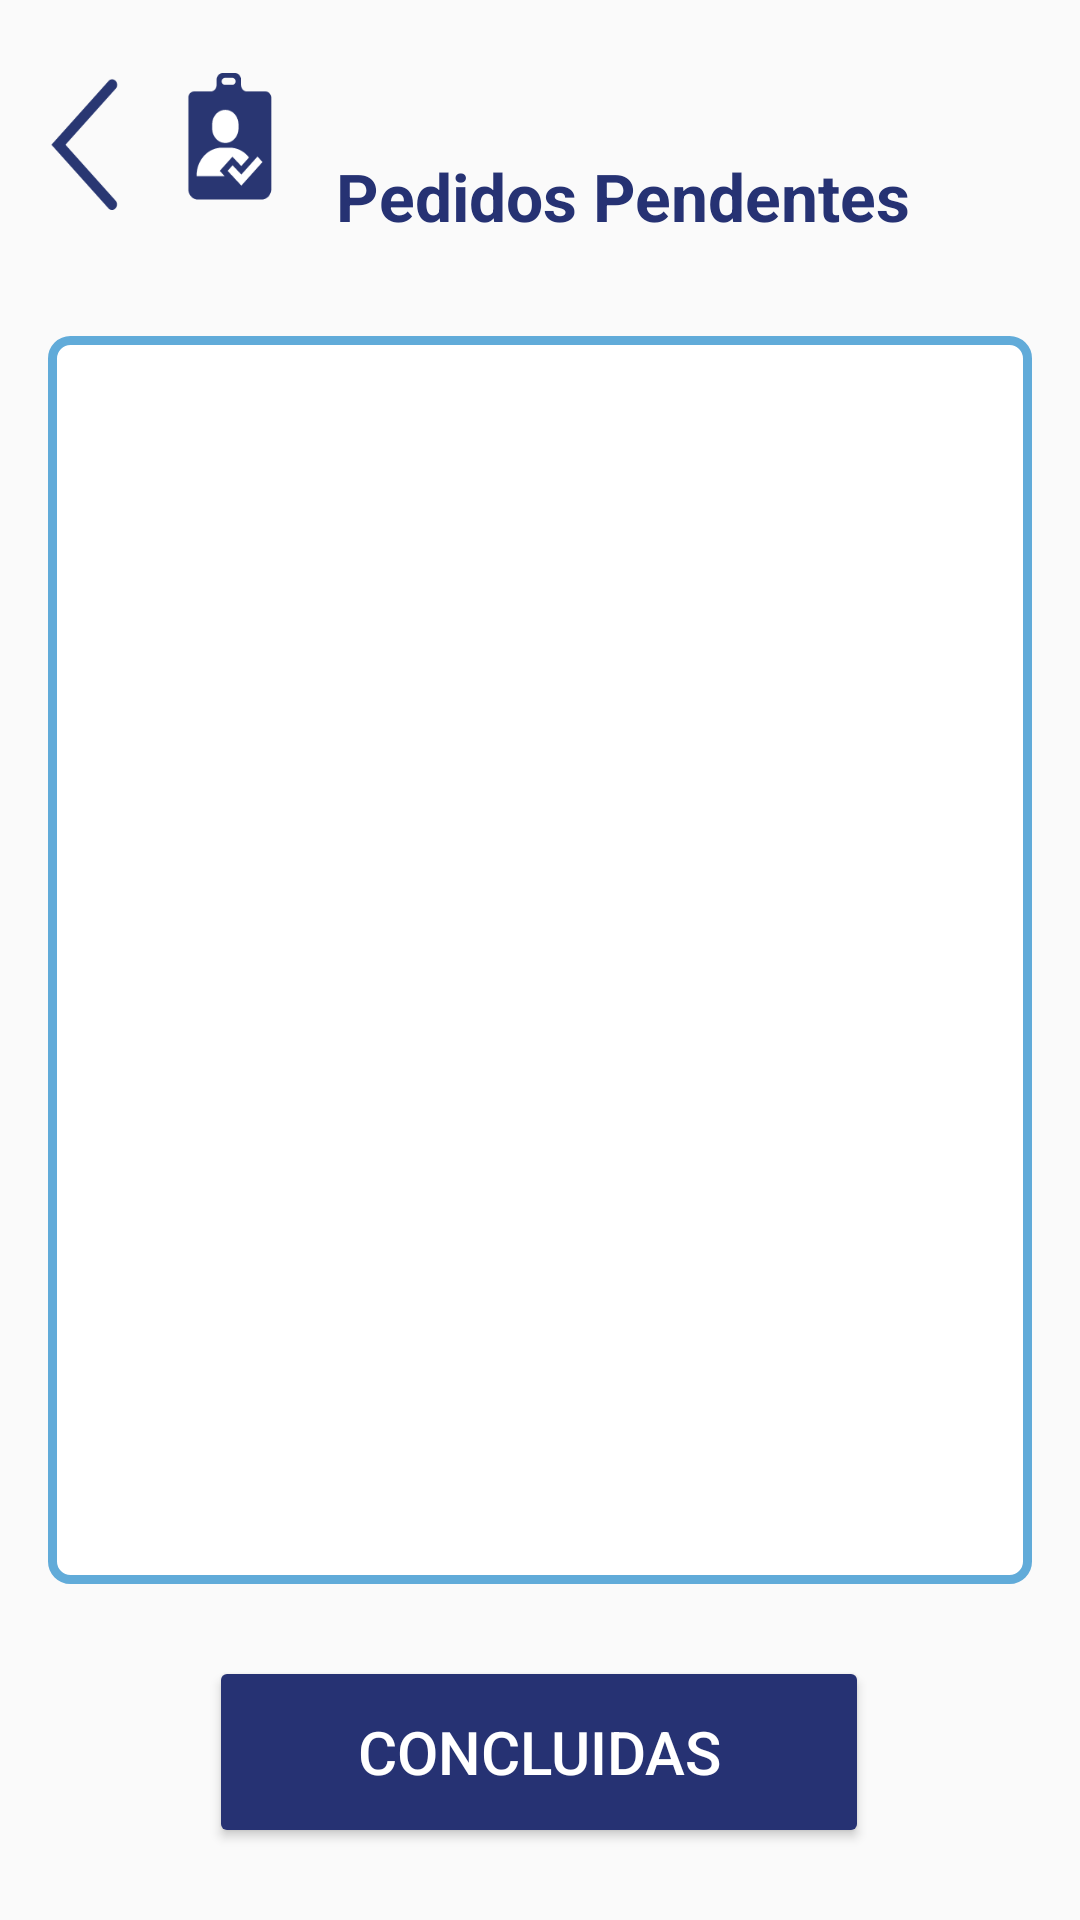

Icon bounding boxes for this 1080 × 1920 phone screenshot, format (x1, y1, x2, y2):
voltar adm: (51, 73, 272, 210)
